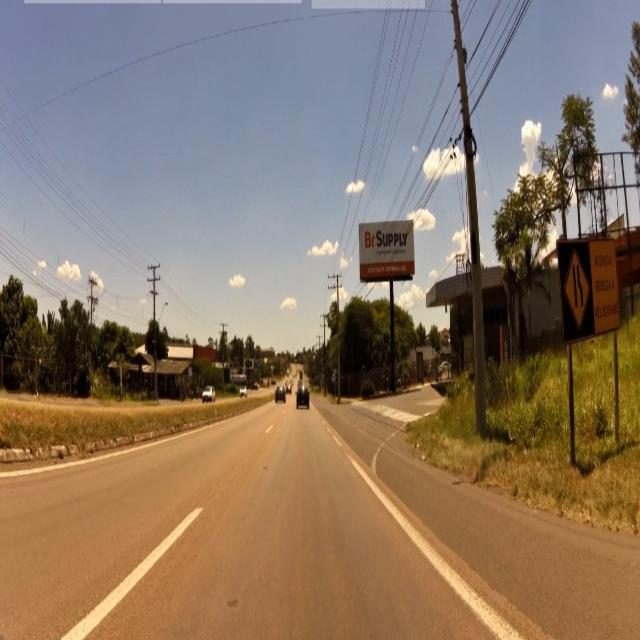A-21c: (562, 253, 590, 327)
